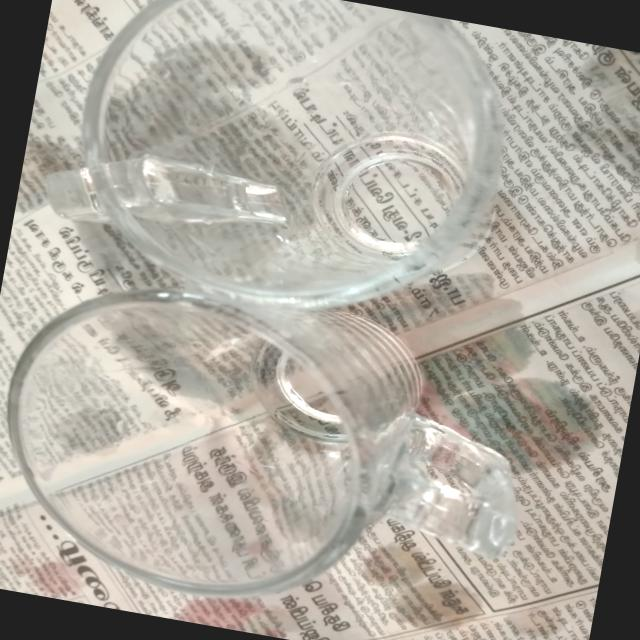glass-VX4N: (0, 269, 543, 640), (30, 0, 536, 344)
